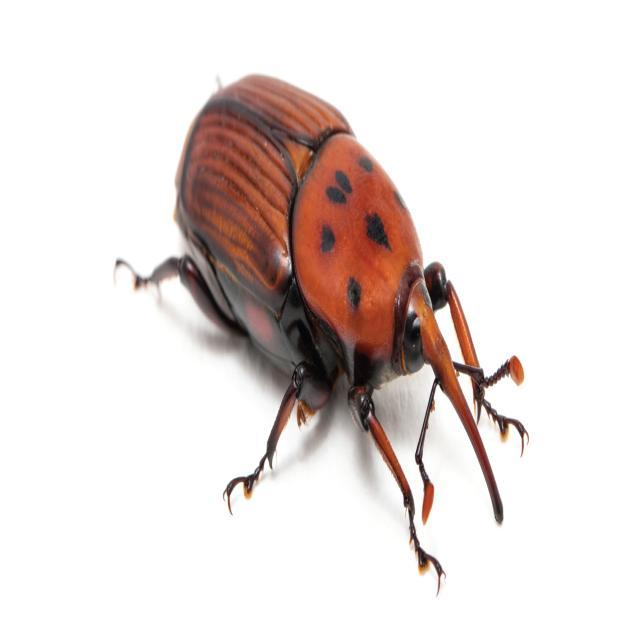Red-palm-weevil: (100, 67, 556, 600)
